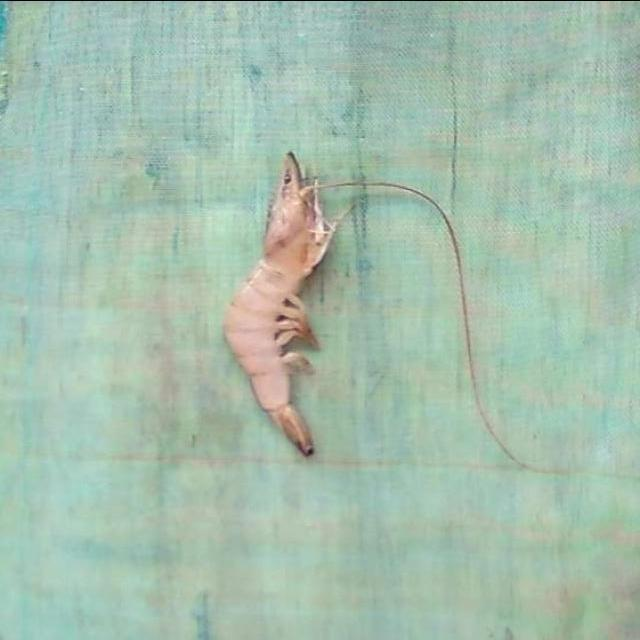shrimp: (222, 152, 335, 456)
